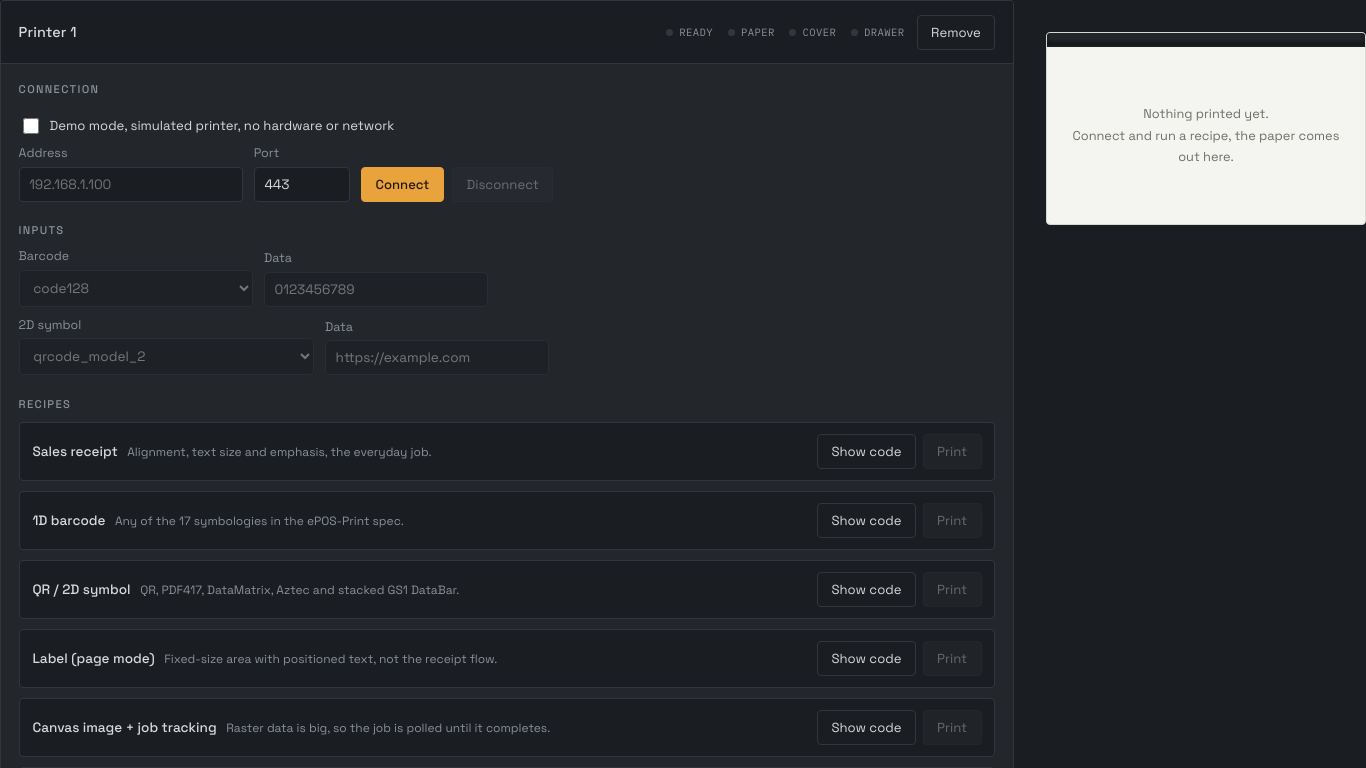
Test case: demo flow › prints a receipt that shows up on the paper rail
Click the checkbox labelled "Demo mode, simulated printer, no hardware or network" at {"x": 31, "y": 126}, box [23,118,39,134]
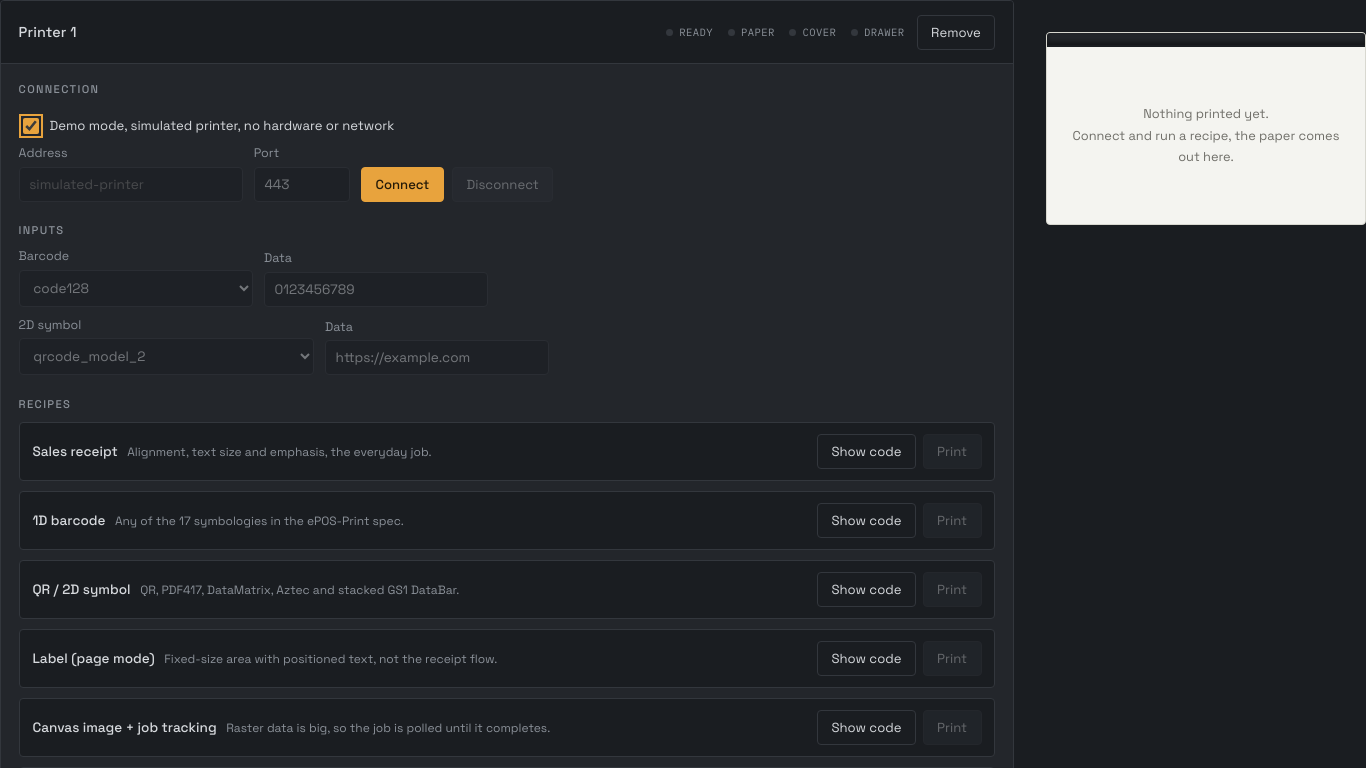
Click the button "Connect" at {"x": 402, "y": 184}, box [361,167,444,202]
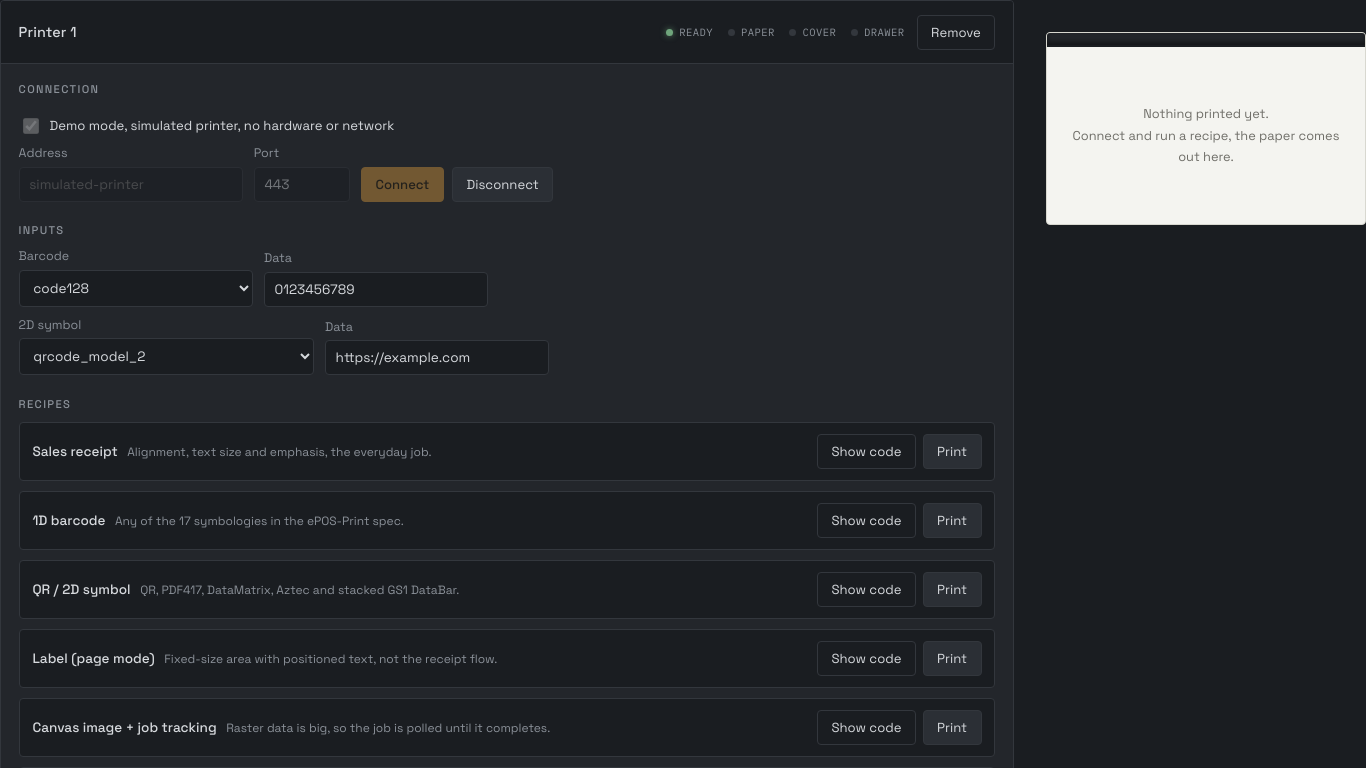
Result: the button "Disconnect" is enabled at [452,167,553,202]
Click the button "Print" in the row of "Sales receipt" at {"x": 952, "y": 452}, box [922,434,982,469]
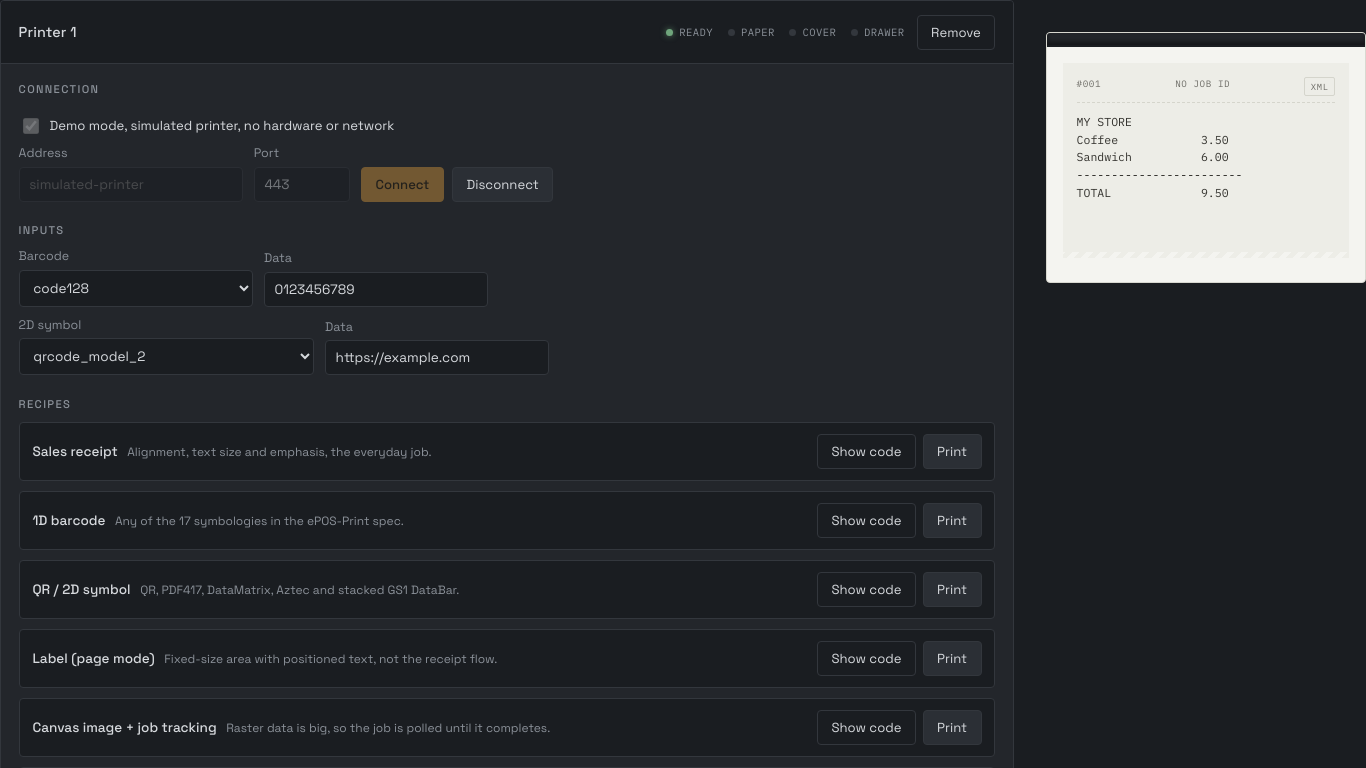
Result: the element named "Receipt 1" shows "MY STORE" at [1077,114,1132,129]
Result: the element named "Receipt 1" shows "TOTAL" at [1077,185,1229,200]
Result: the text "Nothing printed yet" is gone
